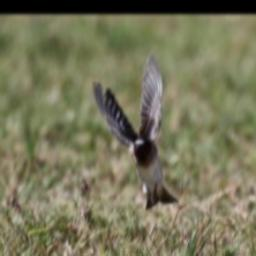Swallow: (92, 53, 178, 209)
